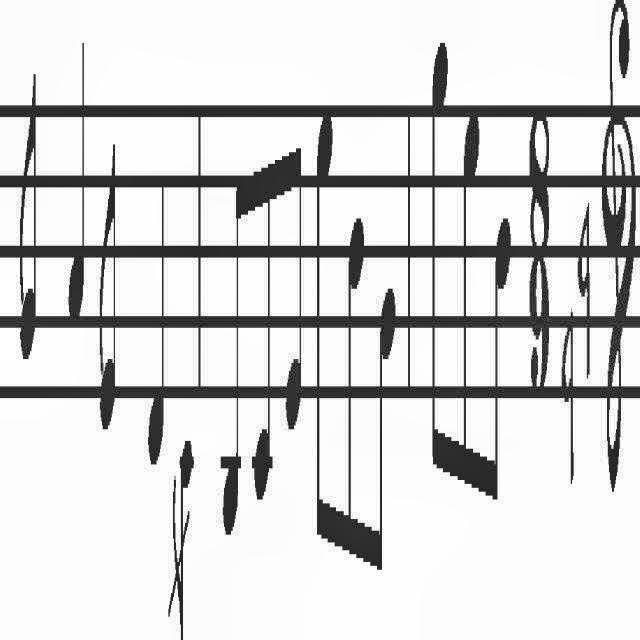Bass-clef: (592, 1, 640, 532)
Bemol: (558, 298, 582, 508), (576, 175, 594, 409)
Eighth-note: (424, 25, 452, 499), (5, 46, 41, 394), (456, 77, 484, 520), (279, 74, 311, 456), (250, 128, 278, 552), (488, 176, 518, 544), (93, 88, 121, 476), (316, 63, 336, 589), (343, 204, 369, 592), (221, 162, 245, 554), (374, 238, 398, 618)
Quarter-note: (144, 100, 168, 504), (67, 1, 87, 372)
